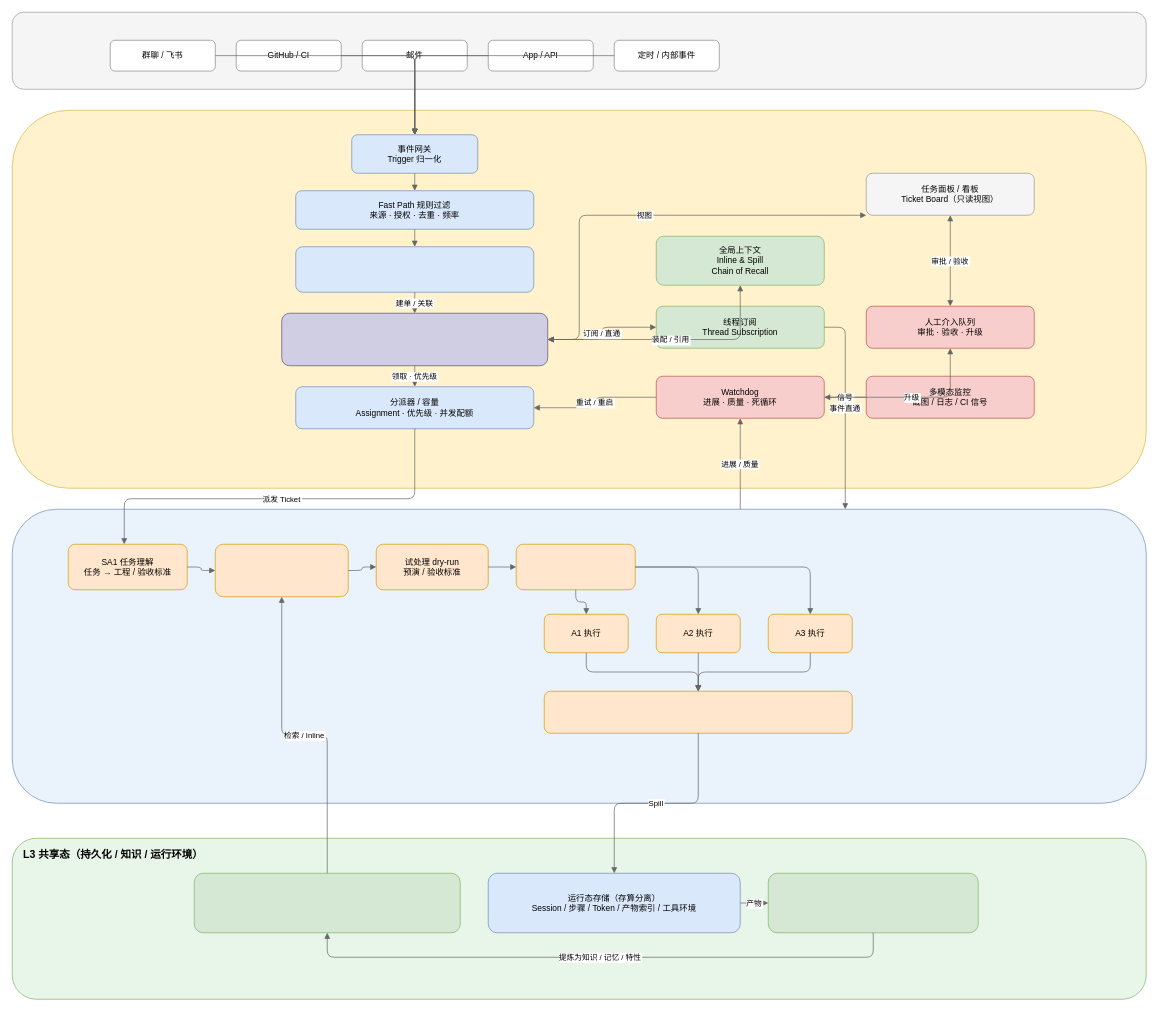
Image size: 1159x1012. Some labels were removed from this diagram. The box of each missing label's shape, as (x1, y1, x2, y2) in pixels:
L0 事件源（Trigger Sources）: (12, 12, 1146, 89)
L1 Router（常驻全局协调 · 不执行业务）: (12, 110, 1146, 488)
L2 Worker（每个 Ticket 独立 Session / 目录 / 上下文；内嵌原图生产线）: (12, 509, 1146, 803)
Slow Path 语义判定 建单 / 关联 / 忽略 · off|observe|auto: (295, 246, 534, 292)
产物 & Spill 文件 / 日志 / 中间结果 / 子会话记录: (544, 691, 852, 733)
工单库 Ticket Store 状态机 · Mandate · 关联: (281, 313, 548, 366)
归档 & 回填 去重 · 归并 · 过期 · 证据: (768, 873, 978, 933)
特性分发 方案 → 子特性 → 子任务: (516, 544, 635, 590)
知识池（文件 + JS + 向量索引） 知识 / 记忆 / 特性: (194, 873, 460, 933)
规划中枢 方案 = 约束 + 规则 + 知识: (215, 544, 348, 597)
